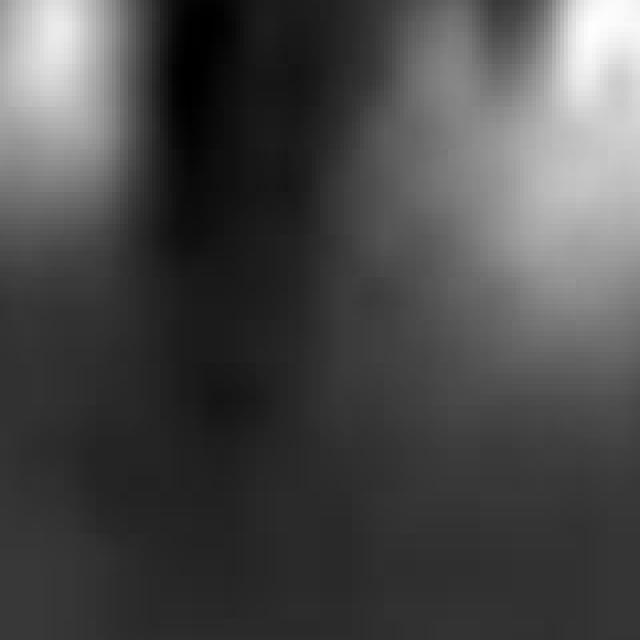person: (285, 1, 513, 460), (477, 1, 640, 492), (1, 1, 157, 353)
